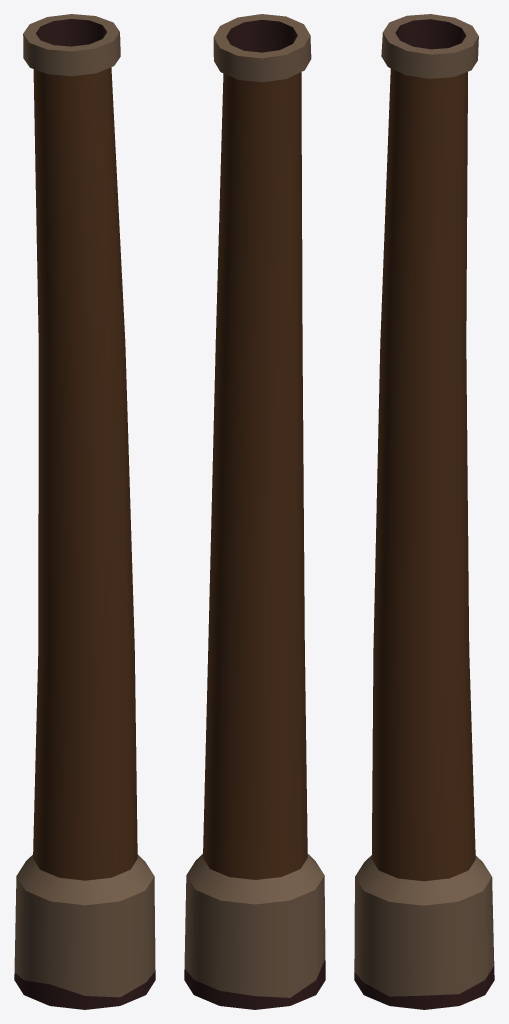
The model's file is 834513ea-e9b1-4e34-bdad-0e3afe147bb3.glb.
3 renders of one model, left to right at view 1: azimuth 30°, elevation 25°; view 2: azimuth 150°, elevation 25°; view 3: azimuth 270°, elevation 25°, orthographic.
Visible parts, largest first — view 1: SM_Chimney:SM_Chimney1; view 2: SM_Chimney:SM_Chimney1; view 3: SM_Chimney:SM_Chimney1.
Boxes of the visible parts, x1,y1,x2,y2 form: SM_Chimney:SM_Chimney1: (14, 14, 155, 1009); SM_Chimney:SM_Chimney1: (184, 14, 325, 1009); SM_Chimney:SM_Chimney1: (354, 14, 494, 1009).
Bounding box in the file's own units: 3.32 × 24.59 × 3.32.
